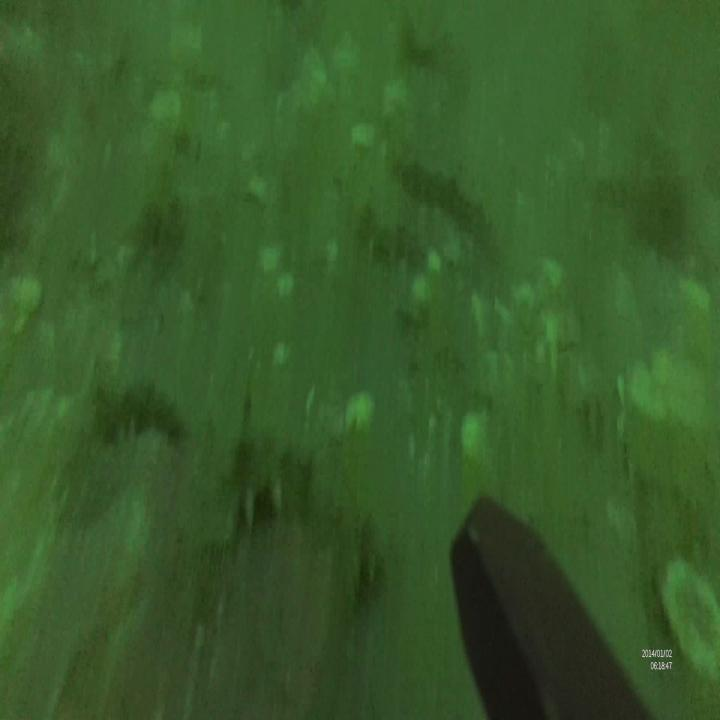holothurian: (218, 393, 385, 596), (91, 371, 189, 451)
